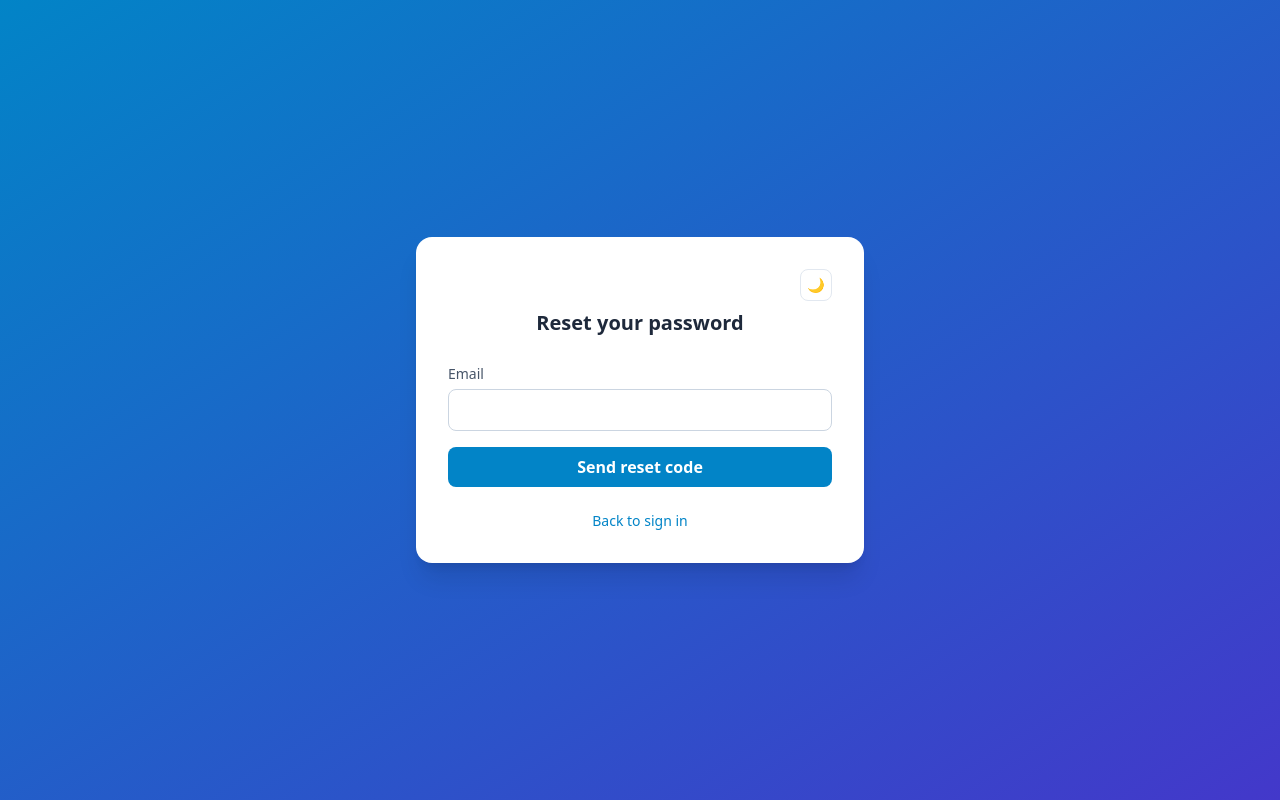
Scenario: ForgotPassword › never surfaces per-email information from the request step
Type "nobody@nowhere.com" into the field labelled "Email". click: (640, 410)
box: [448,389,832,431]
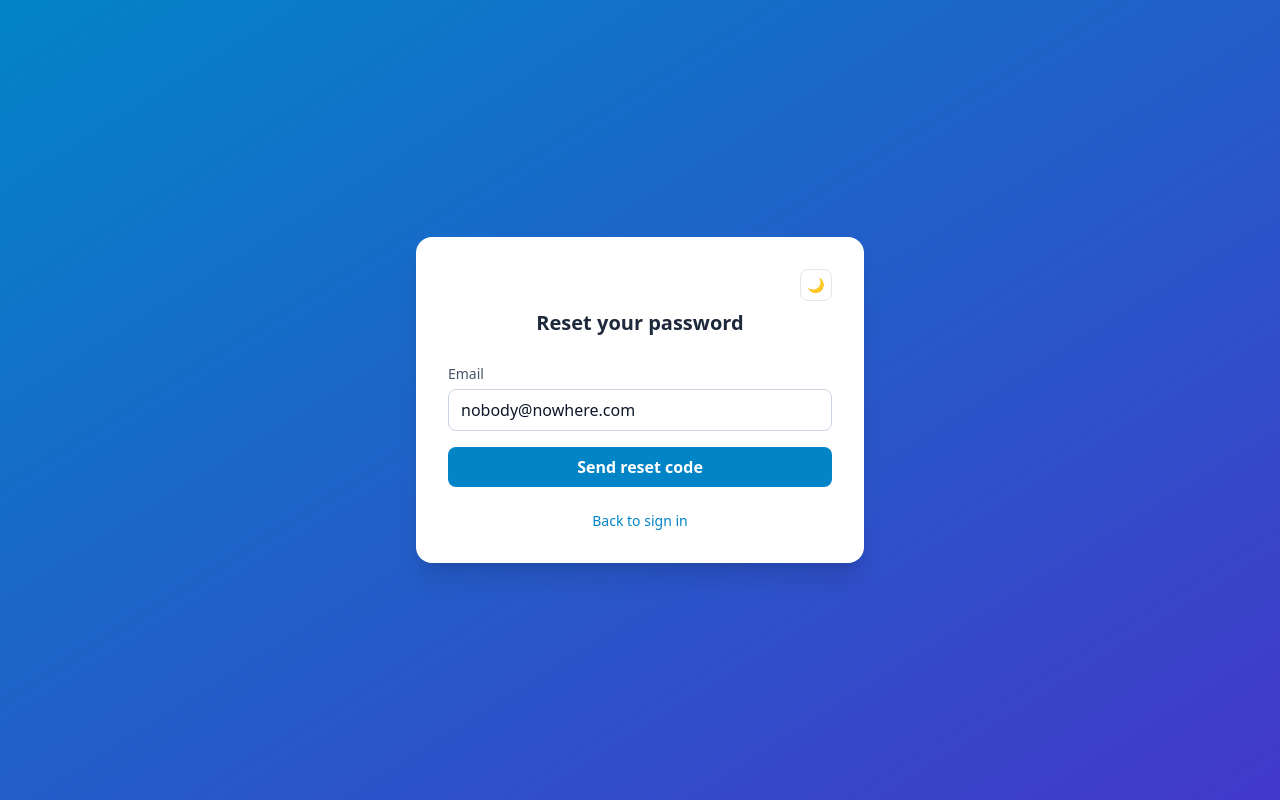
Click the button "Send reset code". click: click(640, 467)
box: [448,447,832,487]
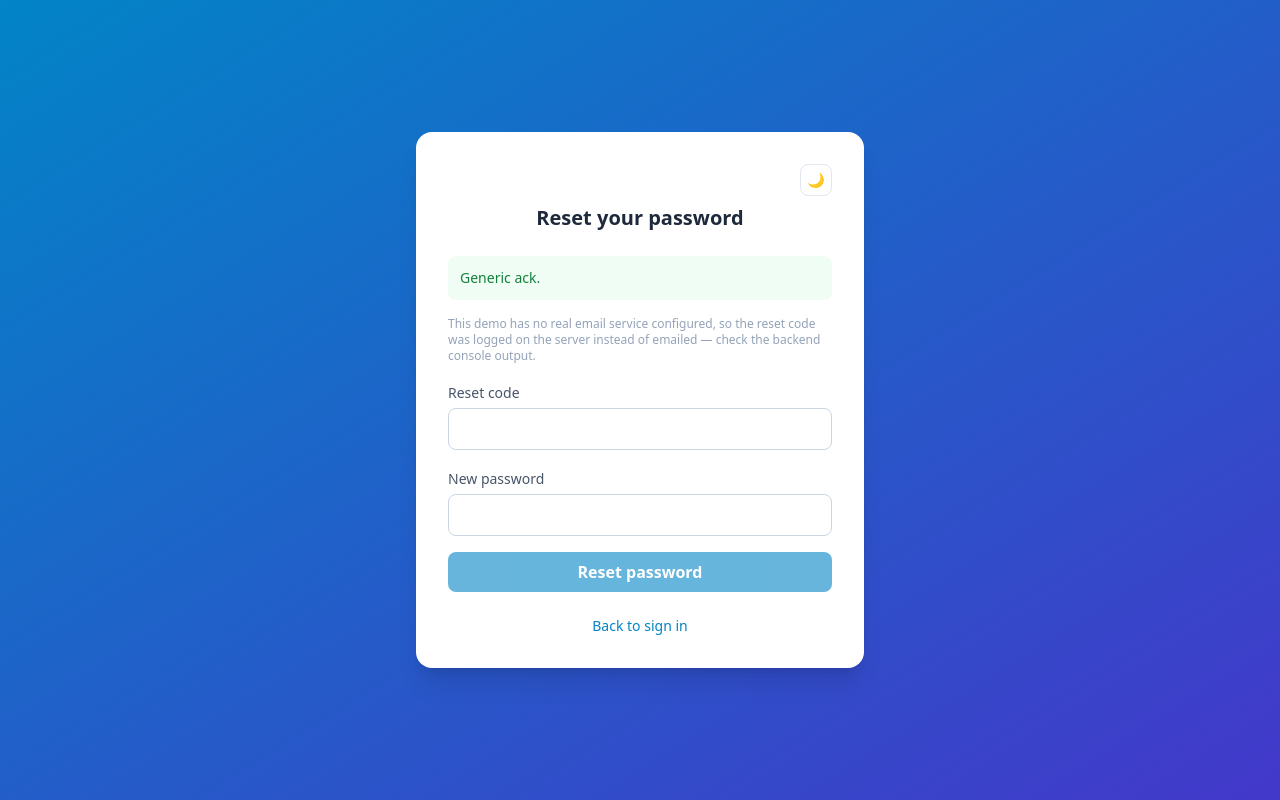
Expected: the text "Generic ack." is shown, [448,256,832,300]
